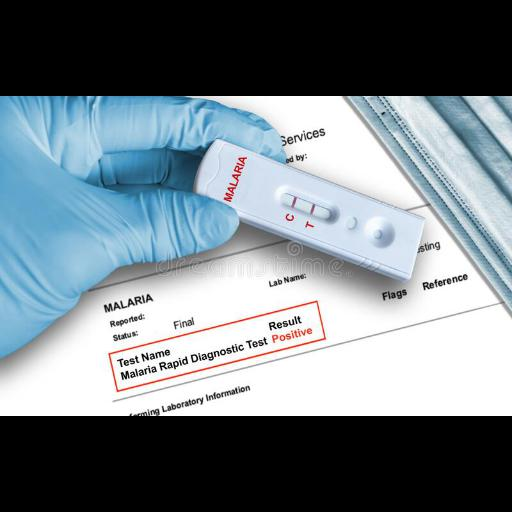Pos: (193, 137, 426, 278)
